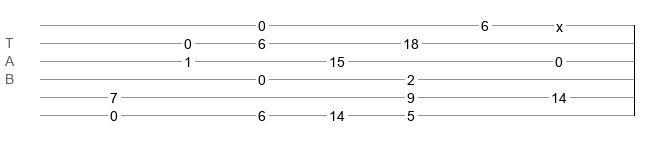0: (110, 108, 118, 118), (184, 36, 192, 46), (258, 18, 266, 28), (258, 72, 266, 82), (555, 54, 563, 64)
1: (184, 54, 192, 64)
14: (329, 108, 345, 118), (551, 90, 567, 100)
15: (329, 54, 345, 64)
18: (403, 36, 419, 46)
2: (407, 72, 415, 82)
5: (407, 108, 415, 118)
6: (258, 36, 266, 46), (258, 108, 266, 118), (481, 18, 489, 28)
7: (110, 90, 118, 100)
9: (407, 90, 415, 100)
x: (556, 19, 563, 27)
